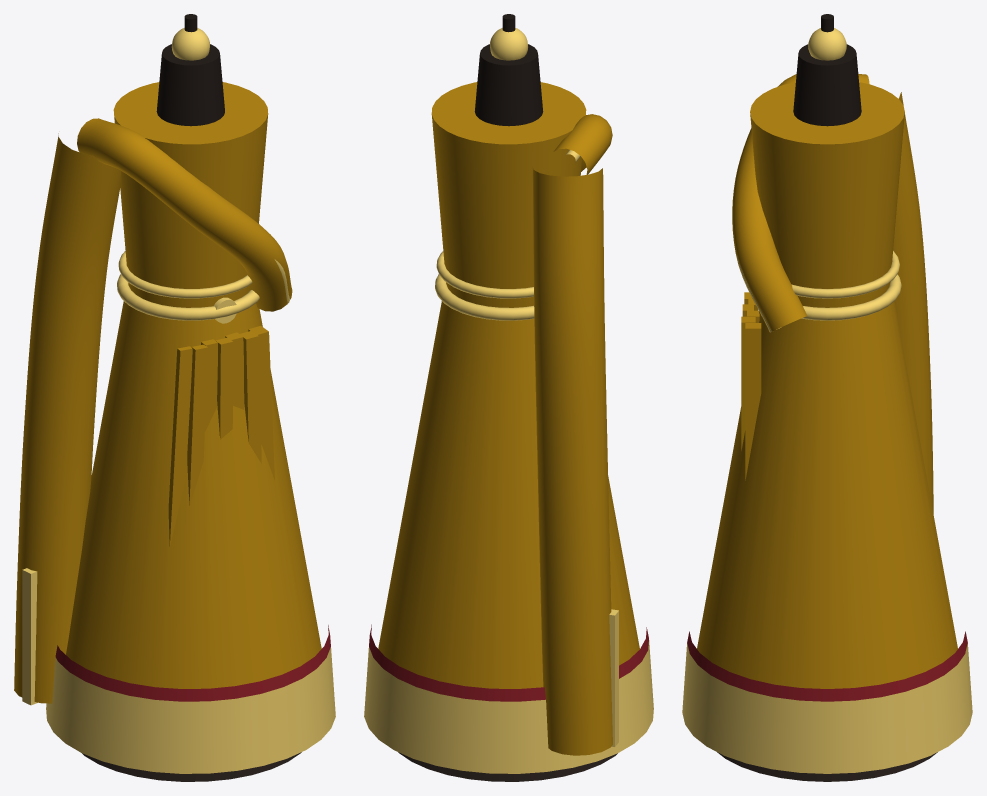
The model's file is heritage-gold.glb.
3 renders of one model, left to right at view 1: azimuth 30°, elevation 25°; view 2: azimuth 150°, elevation 25°; view 3: azimuth 270°, elevation 25°, orthographic.
Visible parts, largest first — view 1: Heritage Gold; view 2: Heritage Gold; view 3: Heritage Gold.
Boxes of the visible parts, box(x1,y1,x2,y2) form: Heritage Gold: box(14, 14, 335, 781); Heritage Gold: box(364, 14, 653, 781); Heritage Gold: box(682, 14, 972, 781).
Bounding box in the file's own units: 0.9414 × 2.44 × 0.9.
